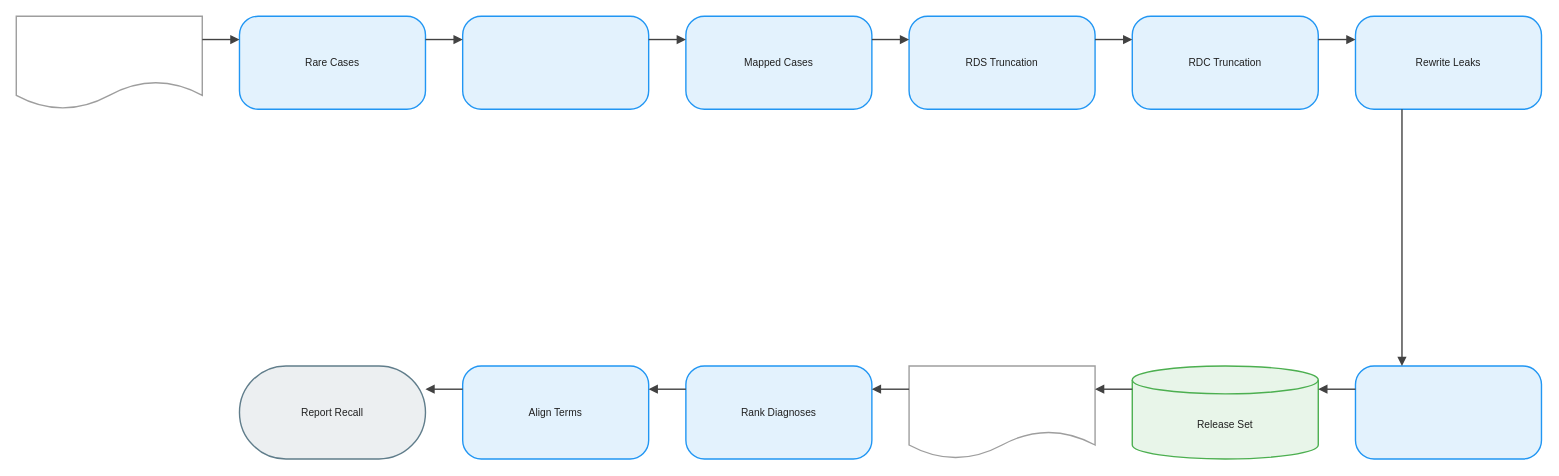
Some shapes in this 1559 by 476 pixel diagram are drawn without their labels. The shapes that lost their labels are listed below. From the top down, each one's centre as x and y in pixels, then its label:
At (109,62): "PMC Reports".
At (555,62): "Orphanet Map".
At (1001,412): "Ask Top Five".
At (1448,412): "Leakage Filter".
